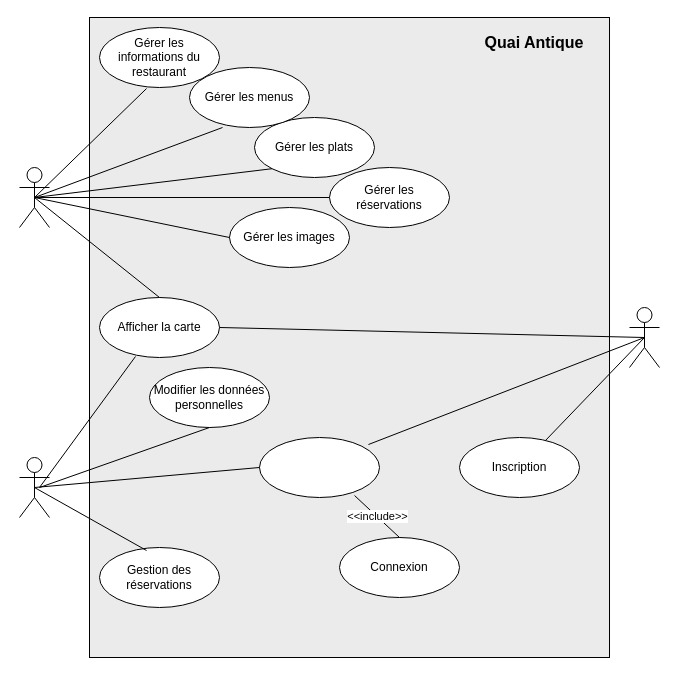
Some shapes in this 681 by 675 pixel diagram are drawn without their labels. The box of each missing label's shape, as (x1, y1, x2, y2) in pixels:
Admin: (18, 166, 50, 228)
Client: (18, 456, 50, 518)
Réserver une table: (258, 436, 380, 498)
Visiteur: (628, 306, 660, 368)
